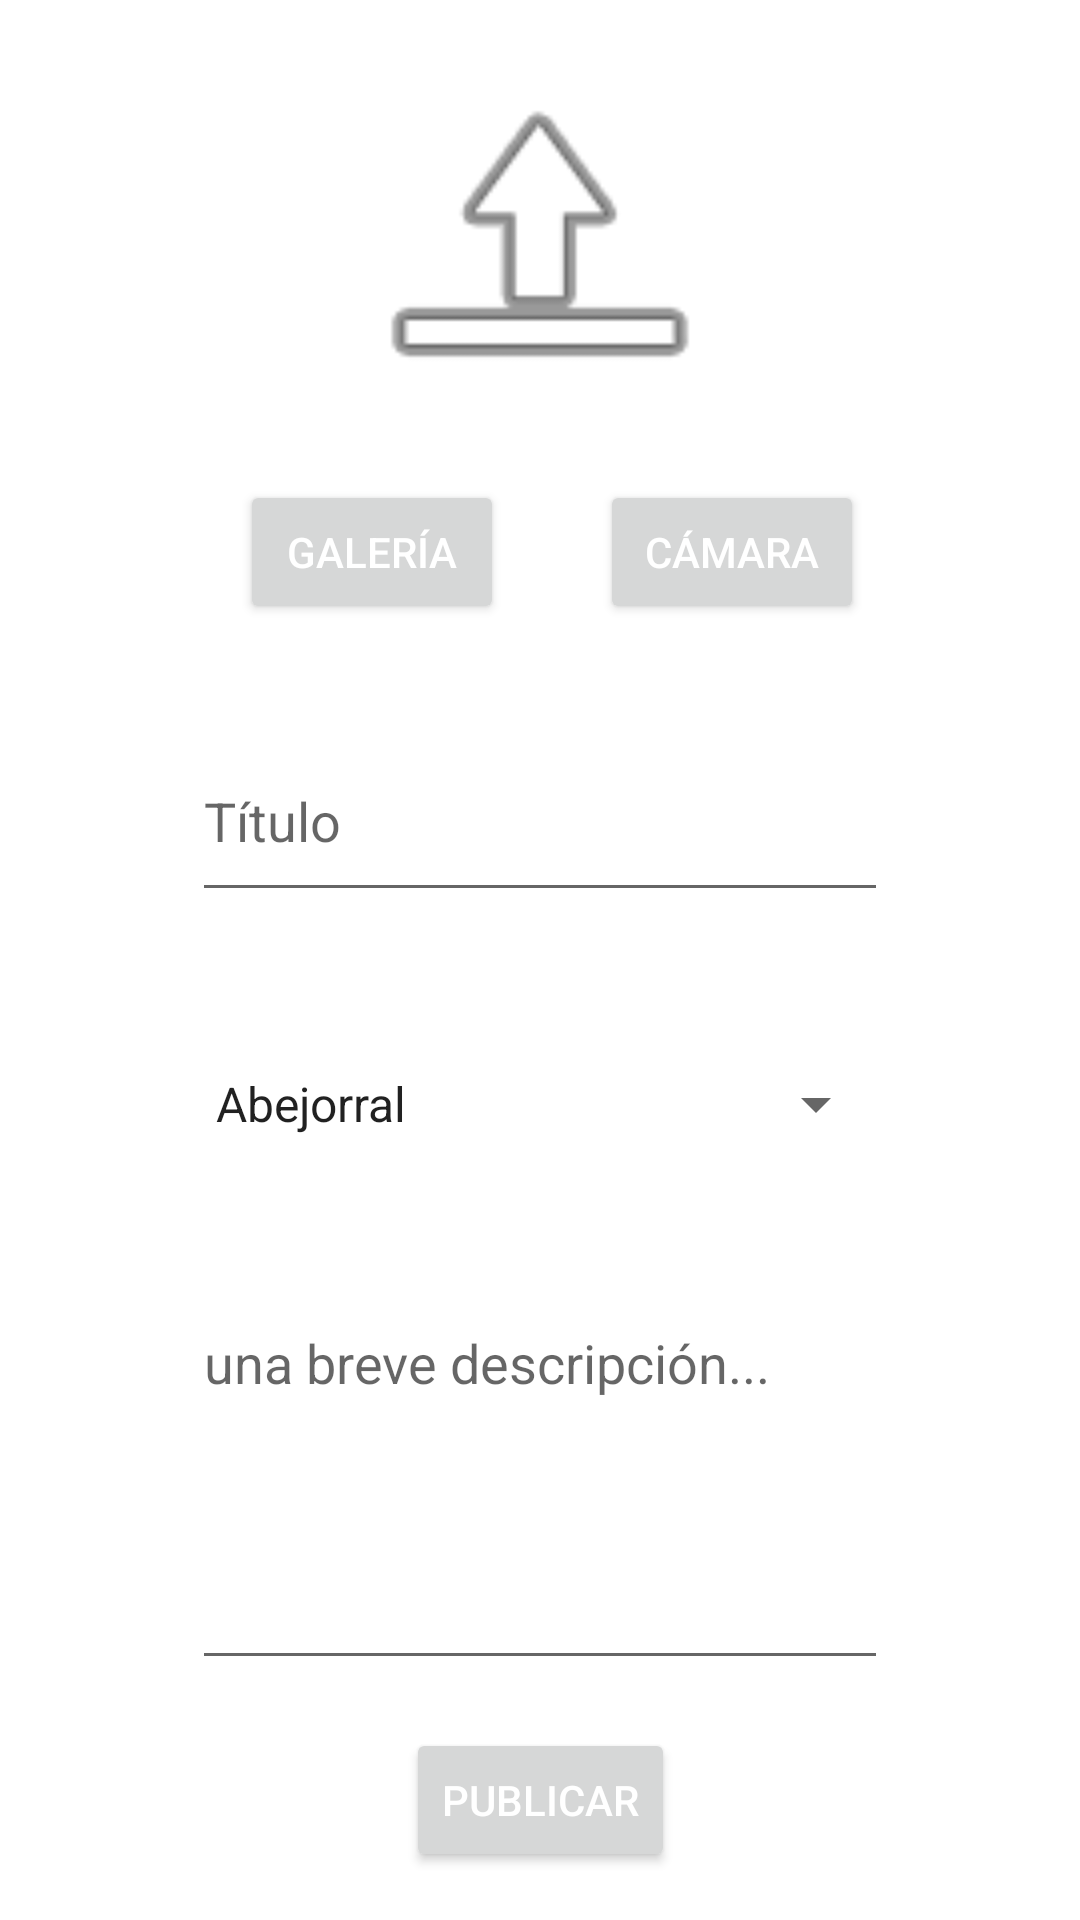

Locate icon controls on the screen. Image size 1080 × 1920, boxes as (x1, y1, x2, y2).
upload you tube: (391, 112, 689, 357)
